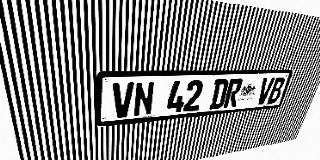2: (183, 80, 204, 112)
4: (166, 80, 187, 114)
B: (267, 77, 286, 104)
D: (209, 79, 230, 109)
N: (133, 81, 155, 117)
R: (223, 79, 243, 108)
V: (112, 82, 134, 119), (255, 78, 275, 105)
